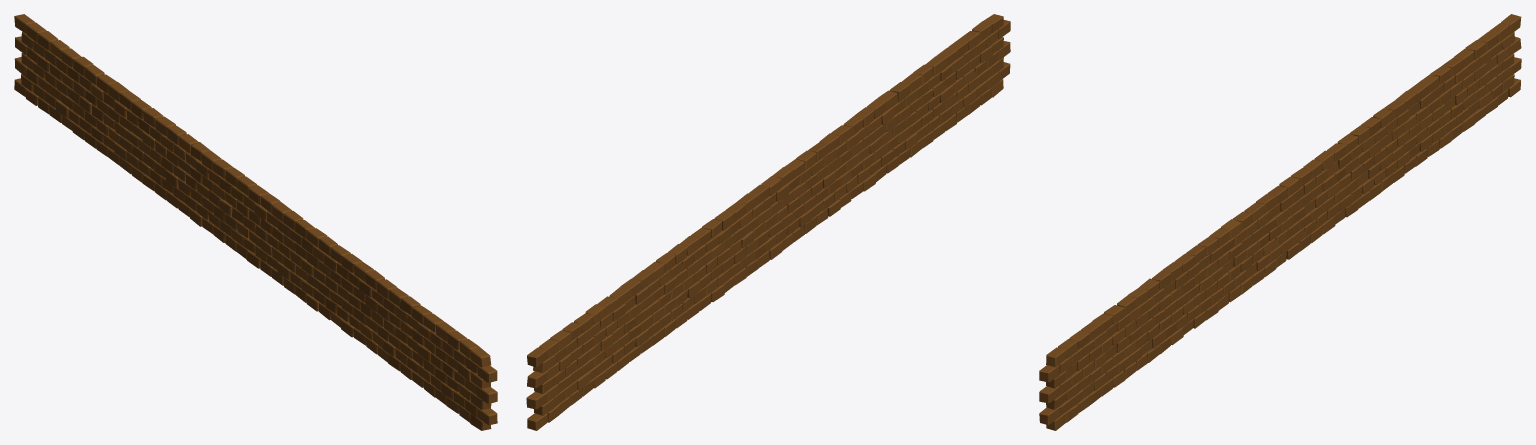
Rendered from low-poly-wall.glb.
3 renders of one model, left to right at view 1: azimuth 30°, elevation 25°; view 2: azimuth 150°, elevation 25°; view 3: azimuth 330°, elevation 25°, orthographic.
Parts seen in each view (by area): view 1: Cube; view 2: Cube; view 3: Cube.
Part boxes in pixels (<box>): Cube: <box>14,14,497,430</box>; Cube: <box>526,14,1010,430</box>; Cube: <box>1039,14,1521,430</box>.
Size of the model in its own units: 2.42 by 14.24 by 162.
